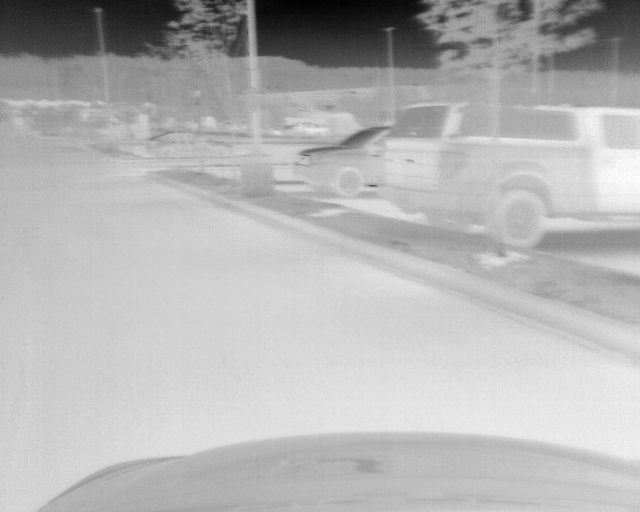car: (383, 100, 640, 249), (293, 123, 387, 197), (146, 131, 231, 160)
